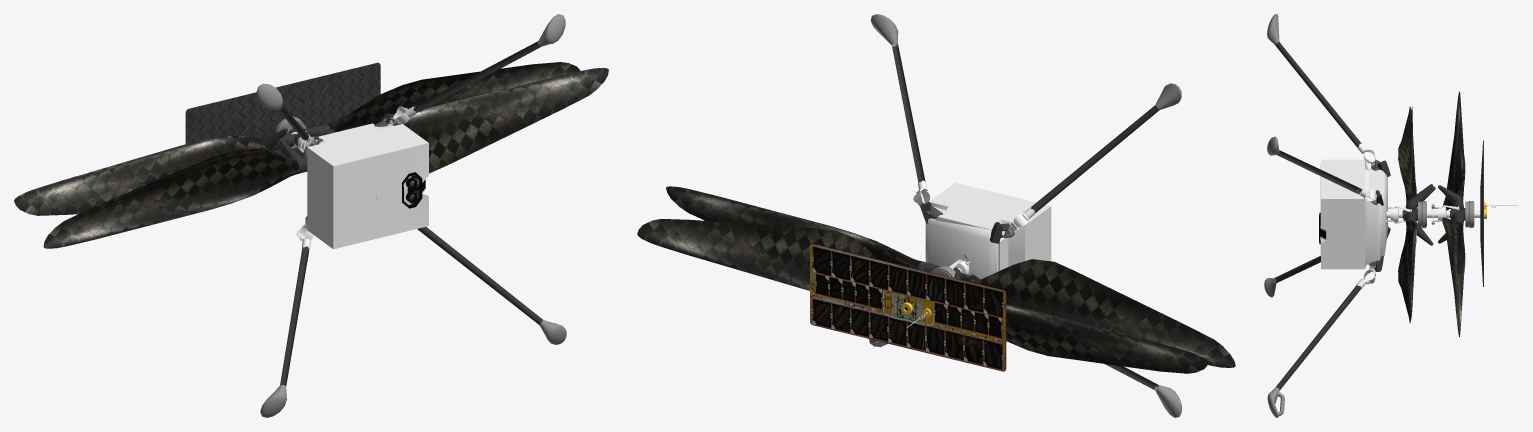
The model's file is Ingenuity_rk_edit.glb.
3 views of the same model, side by side, from view 1: azimuth 30°, elevation 25°; view 2: azimuth 150°, elevation 25°; view 3: azimuth 270°, elevation 25° (orthographic). The views are drawn at different scales.
Parts seen in each view (by area): view 1: Fuselage, rotors_02.002, solar_panel, rotors_01.002, rotors_02.004, rotors_01.001, rotors_02.003, leg_RightFront, leg_LeftRear, leg_LeftFront, leg_RightRear; view 2: solar_panel, rotors_01.001, rotors_02.003, rotors_01.002, Fuselage, rotors_02.002, bus, leg_RightRear, leg_RightFront, rotors_02.004, leg_LeftRear; view 3: Fuselage, bus, rotors_01.001, rotors_01.002, rotors_02.002, leg_LeftFront, leg_RightRear, leg_RightFront, rotors_02.003, rotors_02.004, solar_panel, leg_LeftRear (+2 smaller).
Part boxes in pixels (left/top/right/bottom): Fuselage: left=307, top=123, right=428, bottom=249; rotors_02.002: left=393, top=67, right=608, bottom=173; solar_panel: left=185, top=62, right=380, bottom=157; rotors_01.002: left=14, top=128, right=295, bottom=215; rotors_02.004: left=44, top=138, right=307, bottom=244; rotors_01.001: left=304, top=62, right=580, bottom=136; rotors_02.003: left=43, top=140, right=307, bottom=248; leg_RightFront: left=388, top=14, right=565, bottom=125; leg_LeftRear: left=260, top=220, right=313, bottom=417; leg_LeftFront: left=417, top=227, right=566, bottom=344; leg_RightRear: left=256, top=83, right=314, bottom=146; solar_panel: left=810, top=243, right=1006, bottom=371; rotors_01.001: left=637, top=219, right=876, bottom=290; rotors_02.003: left=959, top=259, right=1235, bottom=367; rotors_01.002: left=954, top=271, right=1208, bottom=373; Fuselage: left=929, top=182, right=1051, bottom=271; rotors_02.002: left=666, top=186, right=940, bottom=272; bus: left=920, top=202, right=1004, bottom=279; leg_RightRear: left=1004, top=83, right=1181, bottom=235; leg_RightFront: left=870, top=14, right=930, bottom=206; rotors_02.004: left=959, top=259, right=1234, bottom=367; leg_LeftRear: left=1105, top=364, right=1181, bottom=417; Fuselage: left=1320, top=159, right=1382, bottom=269; bus: left=1366, top=160, right=1390, bottom=271; rotors_01.001: left=1438, top=211, right=1465, bottom=336; rotors_01.002: left=1438, top=91, right=1465, bottom=210; rotors_02.002: left=1398, top=211, right=1433, bottom=322; leg_LeftFront: left=1267, top=265, right=1376, bottom=417; leg_RightRear: left=1267, top=14, right=1376, bottom=167; leg_RightFront: left=1267, top=136, right=1376, bottom=203; rotors_02.003: left=1402, top=106, right=1435, bottom=209; rotors_02.004: left=1398, top=106, right=1433, bottom=209; solar_panel: left=1480, top=140, right=1518, bottom=286; leg_LeftRear: left=1264, top=255, right=1320, bottom=297.
Bounding box in the file's own units: 1.21 × 0.6808 × 0.5579.
15 materials, 5 textured.
